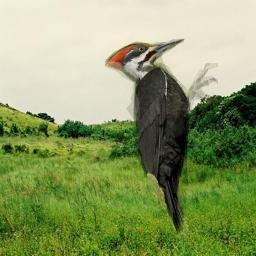Woodpecker: (105, 38, 218, 237)
